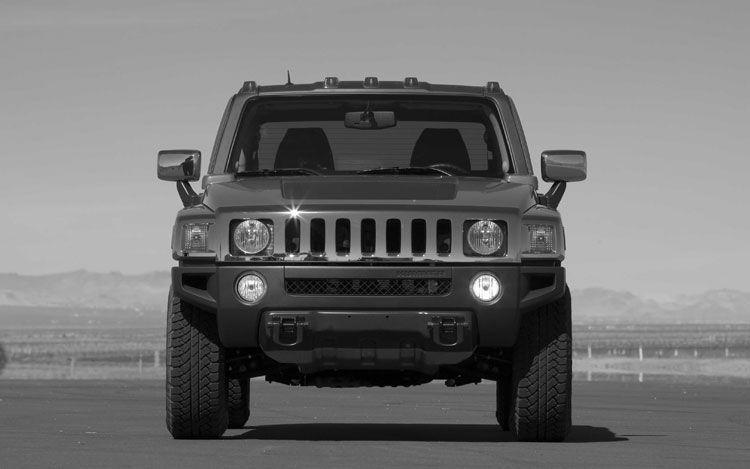car: (154, 74, 593, 444)
